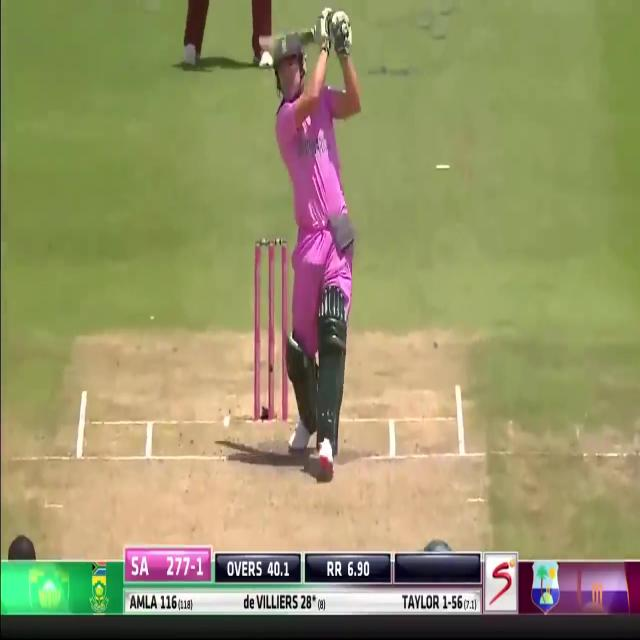Ball: (260, 1, 359, 470)
